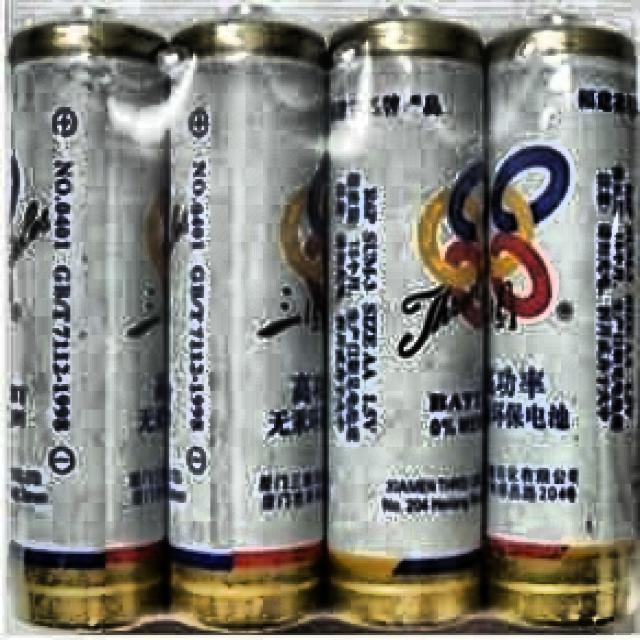Non-Valuable Waste - Batteries: (9, 20, 166, 626), (170, 20, 324, 626), (329, 19, 482, 623), (486, 25, 634, 623)
